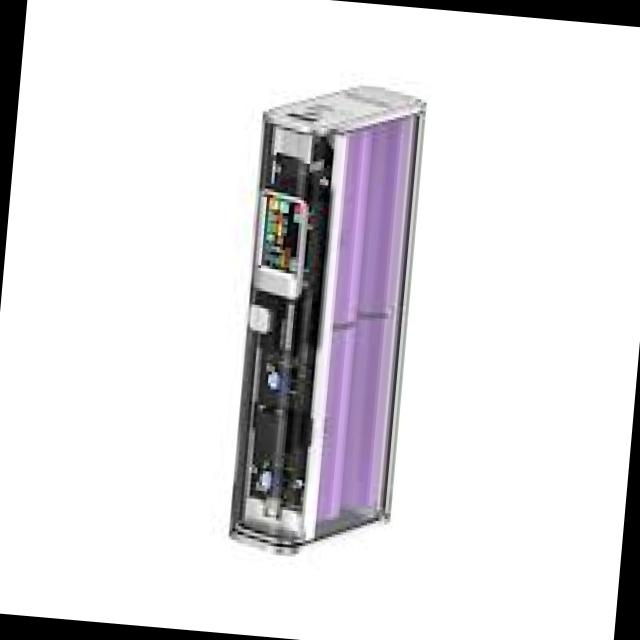power_bank: (219, 69, 441, 567)
